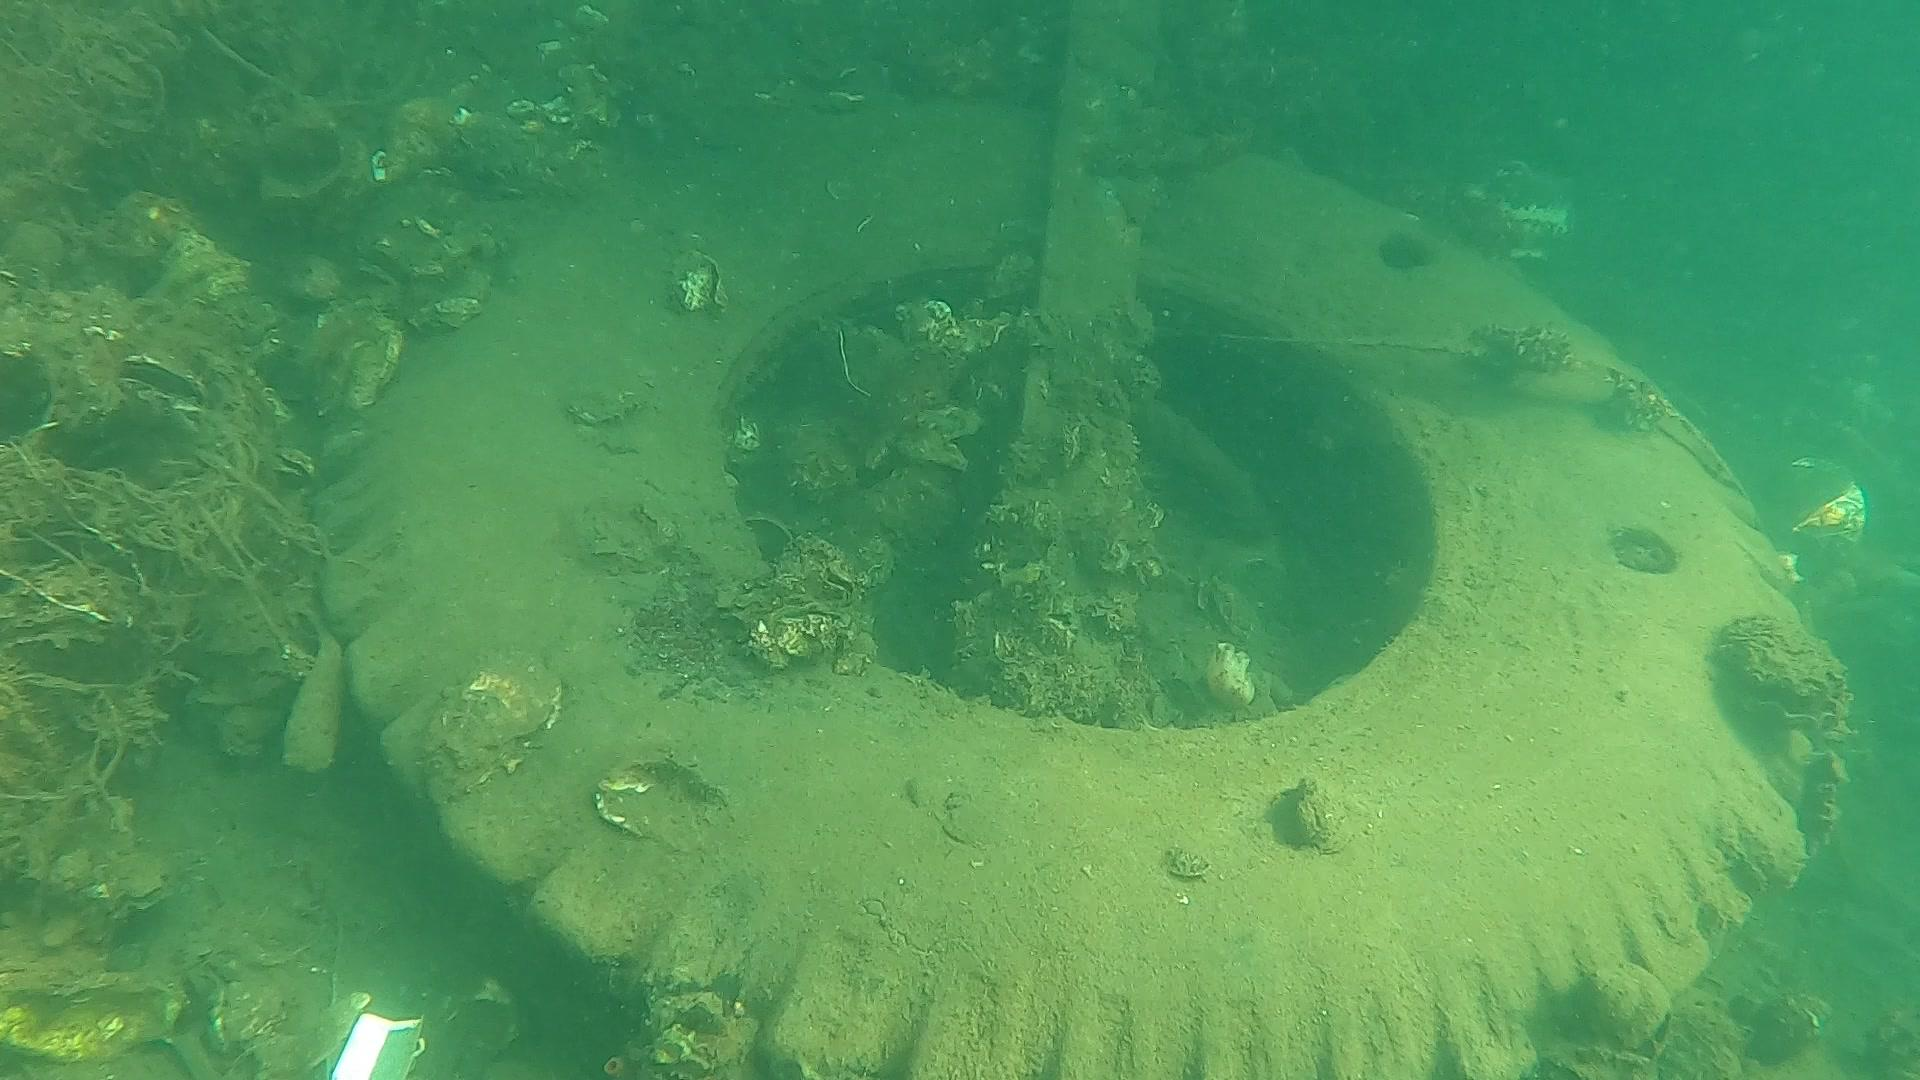tire: (320, 103, 1851, 1080)
